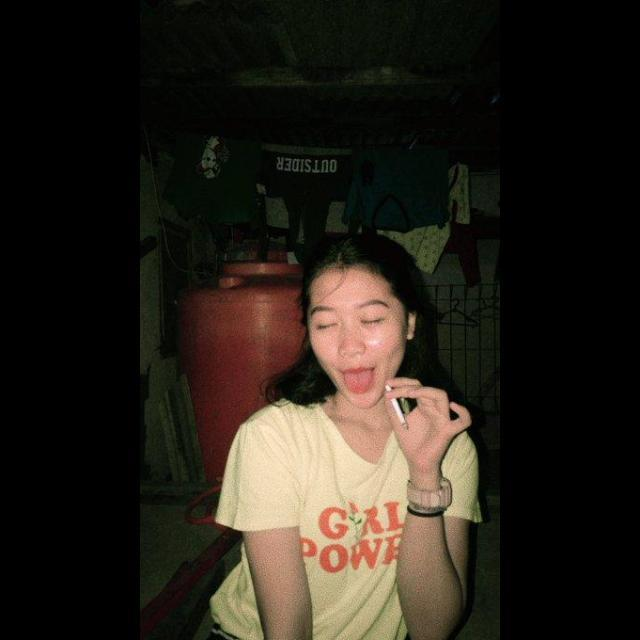rokok: (383, 379, 413, 431)
